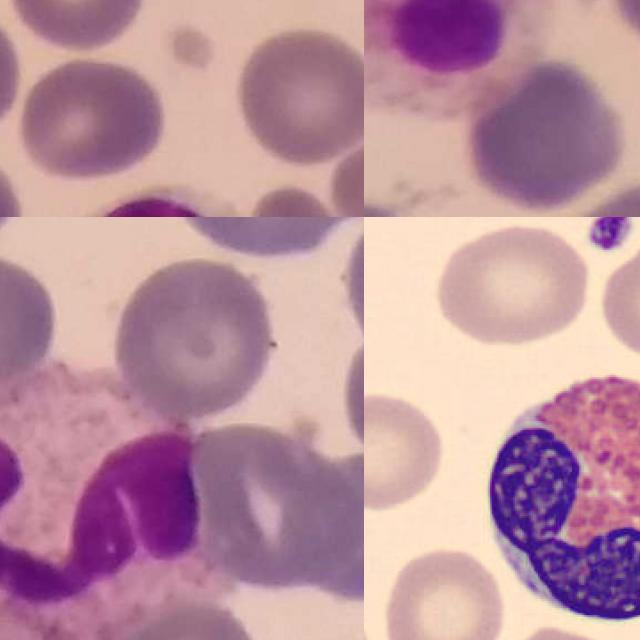Eosinophil: (470, 354, 640, 636)
Neutrophil: (0, 368, 216, 640), (364, 0, 555, 113)
Platelets: (582, 217, 635, 255)
RBC: (428, 219, 595, 351), (376, 541, 509, 640), (364, 385, 449, 514), (593, 230, 640, 364), (581, 217, 640, 253)
